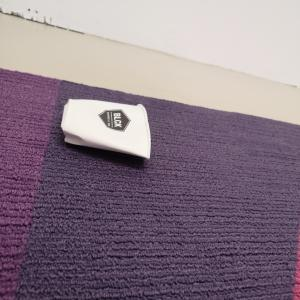Cup: (62, 99, 153, 162)
